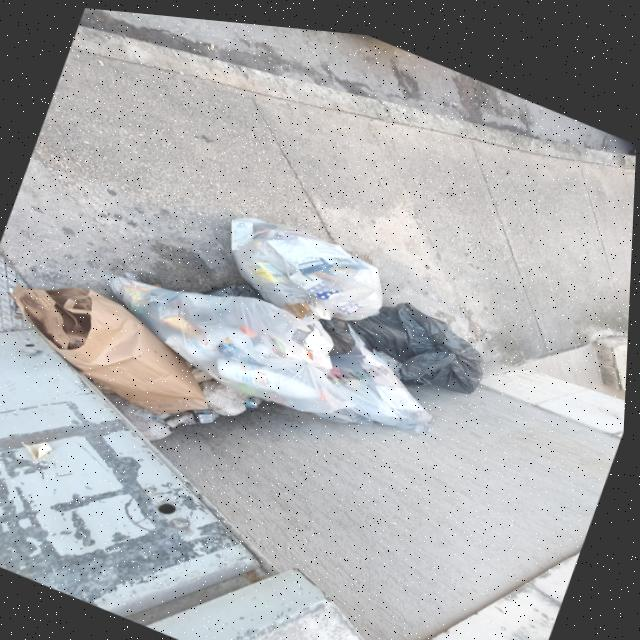Mixed Waste -Black Bag-: (343, 276, 502, 399)
Organic Waste -White Bag-: (78, 232, 382, 432), (210, 195, 399, 335), (307, 324, 455, 452)
Other: (3, 267, 279, 466)
